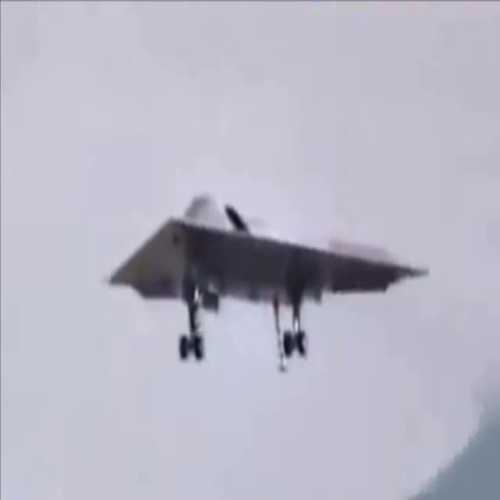uav: (98, 191, 435, 371)
